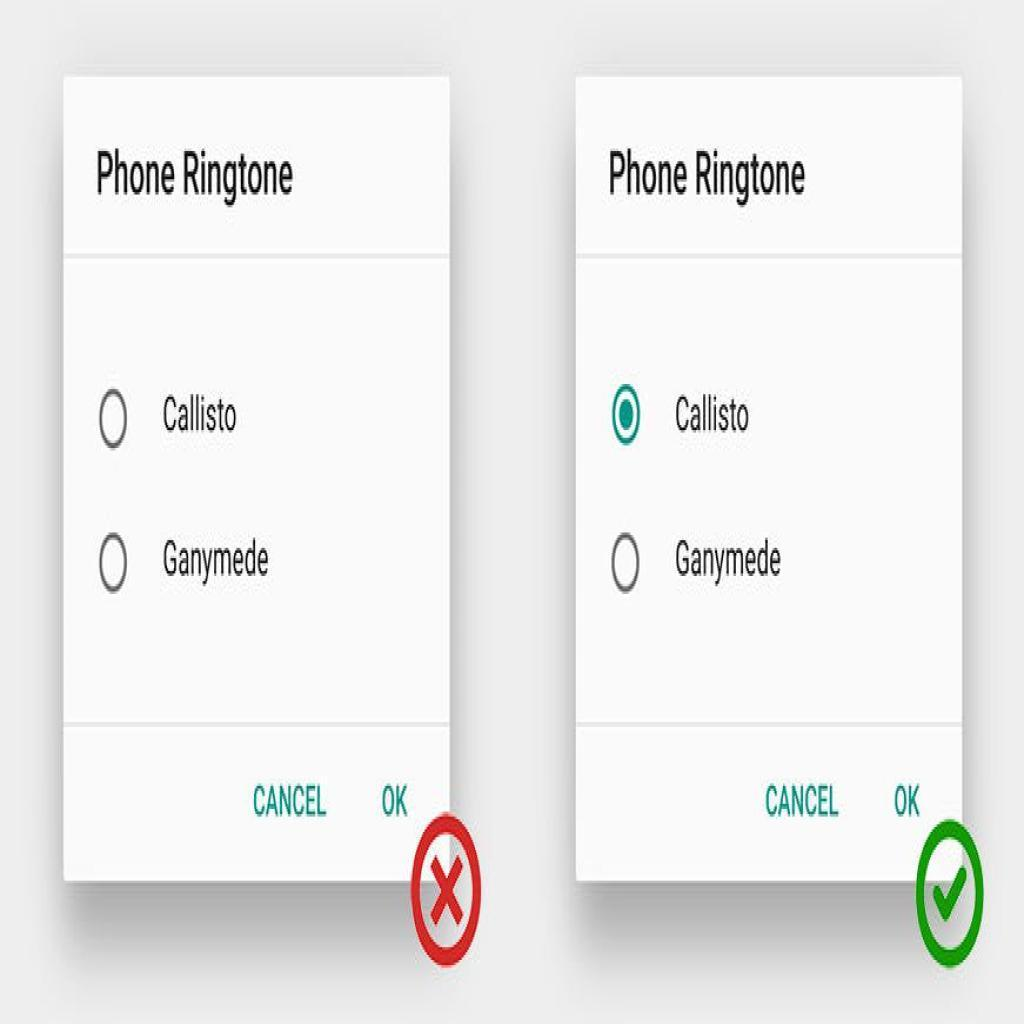checkbox: (411, 812, 486, 971), (917, 821, 984, 970)
label: (160, 531, 280, 591), (675, 534, 784, 592), (670, 388, 754, 442), (156, 391, 242, 442), (762, 781, 842, 826), (248, 780, 328, 824), (887, 784, 933, 820), (375, 785, 410, 819)
radio: (96, 387, 130, 452), (611, 532, 644, 598), (98, 531, 130, 597), (611, 384, 643, 446)
